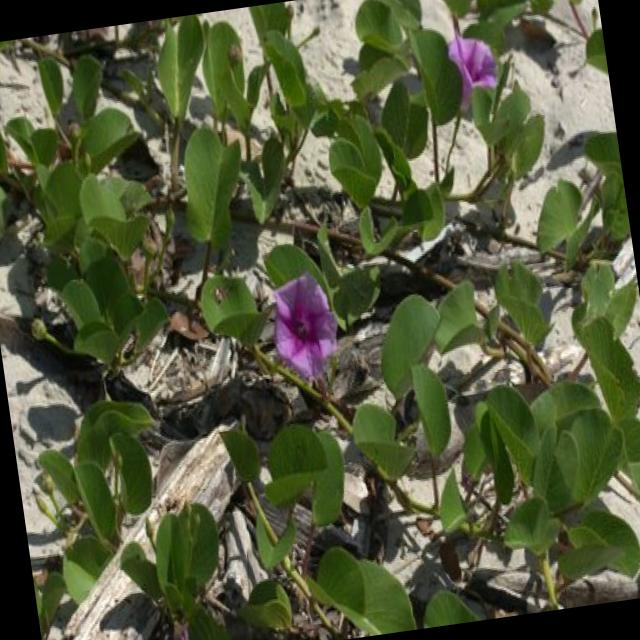ipomoea: (261, 265, 348, 391), (439, 25, 506, 120)
